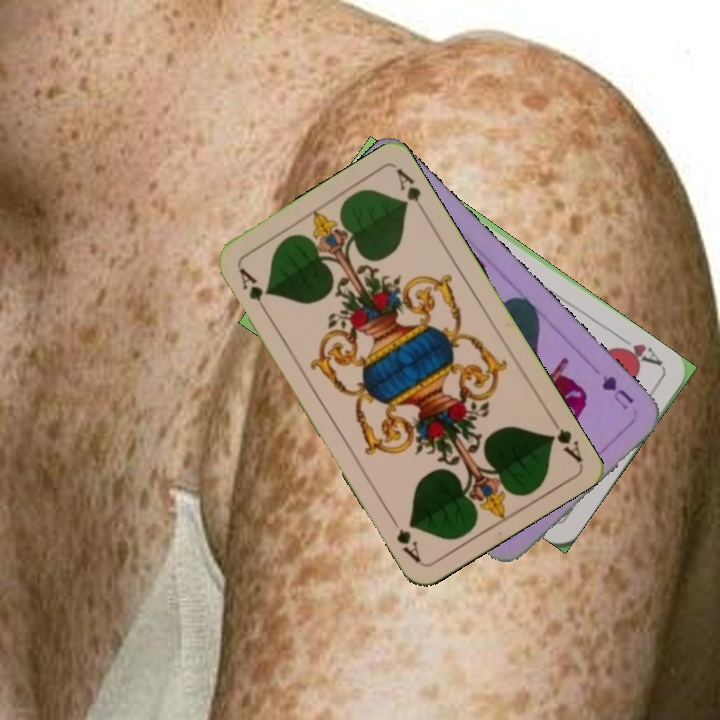GA: (545, 411, 584, 464), (234, 263, 271, 316)
GU: (597, 371, 637, 413)
HA: (609, 331, 666, 369)
